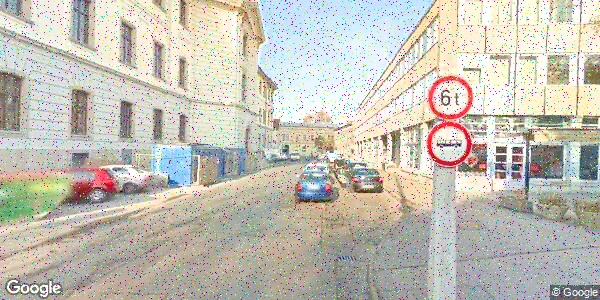f_others: (425, 121, 474, 167), (426, 75, 475, 120)
